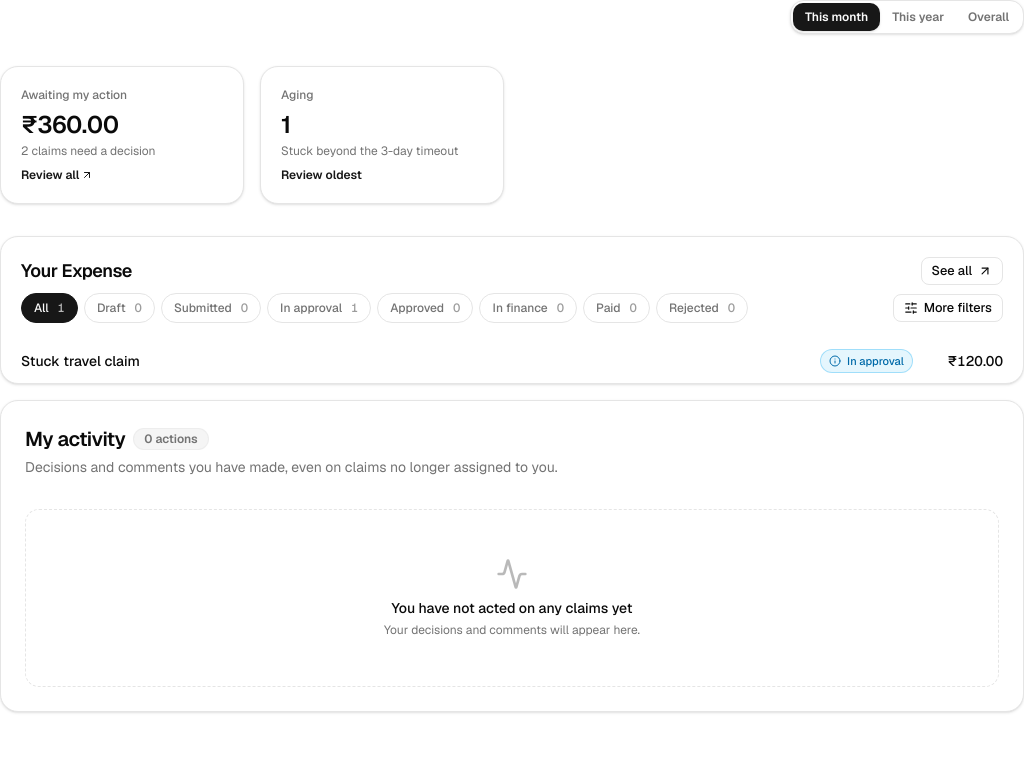
Test: ExpenseDashboard drawer integration › opens the drawer on the oldest aged claim from the aging CTA
The width and height of the screenshot is (1024, 768).
Step 1. Click the button "Review oldest" → {"x": 321, "y": 175}, box [281, 167, 362, 183]
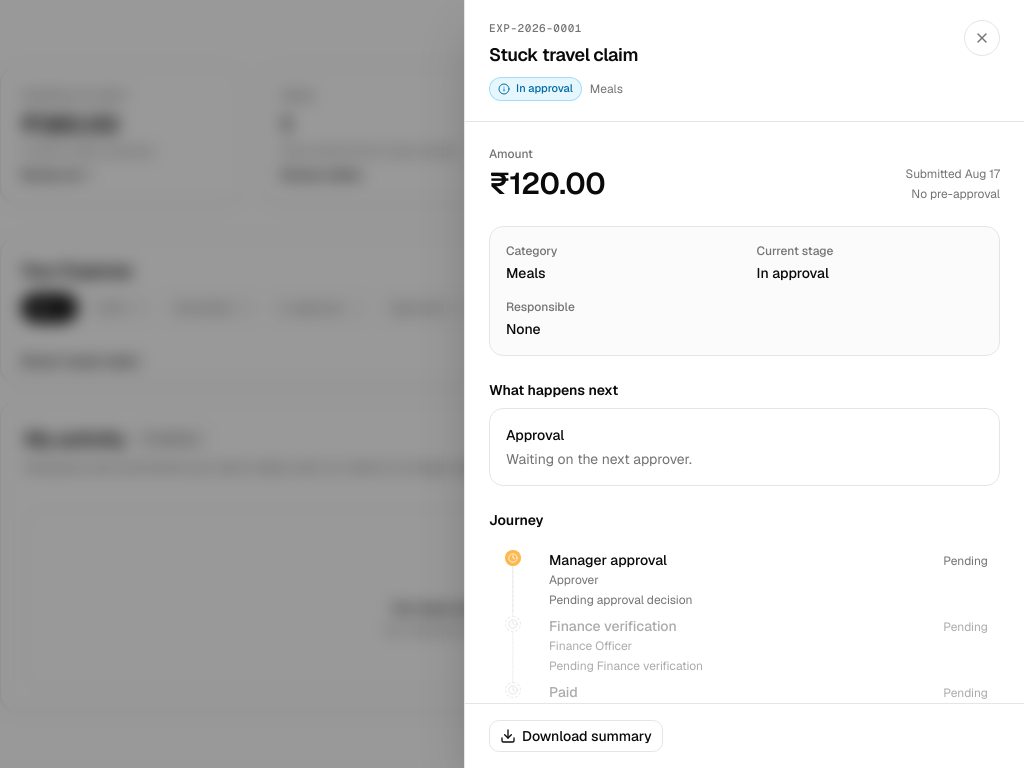
Now the dialog is shown, box [464, 0, 1023, 767]
Now the dialog shows "Stuck travel claim", box [489, 42, 638, 66]
